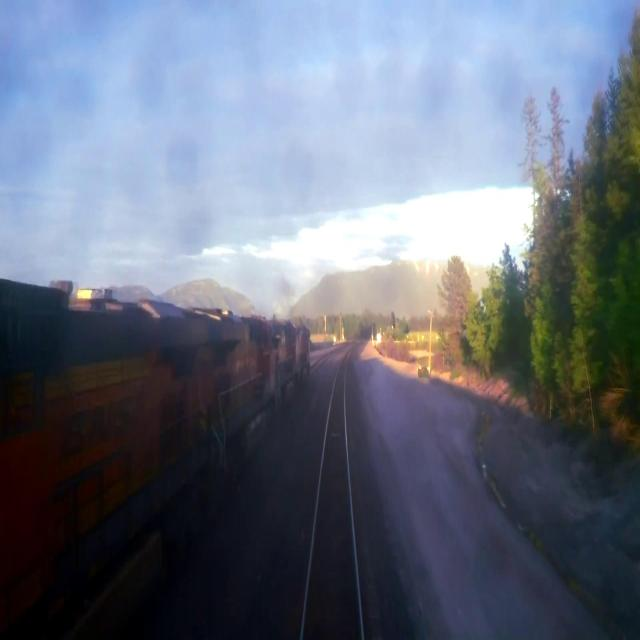rail-track: (305, 361, 360, 639)
